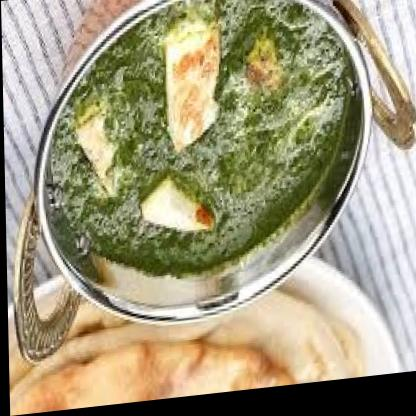palak_paneer: (45, 0, 354, 292)
